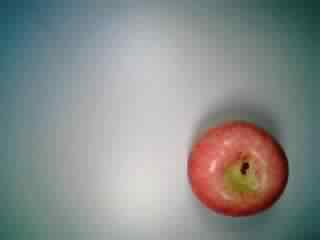apple: (187, 119, 291, 220)
